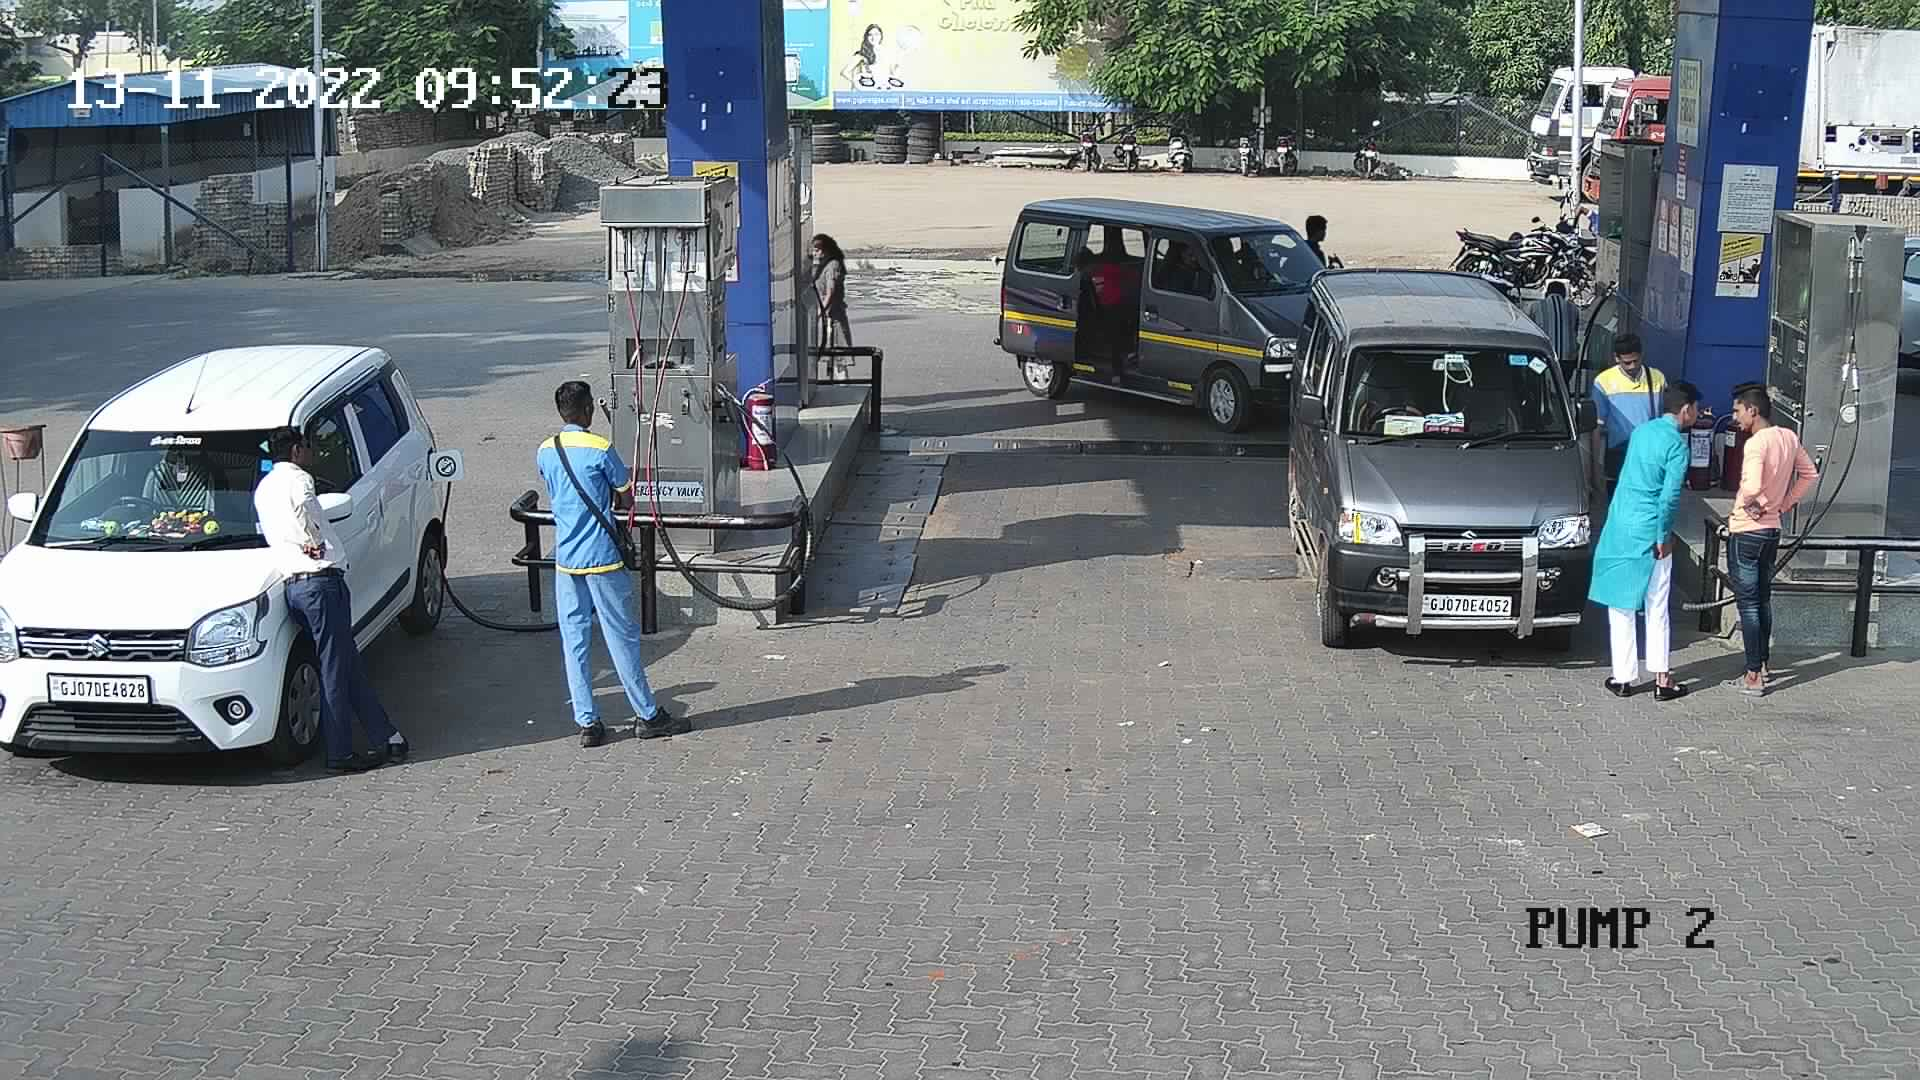Bike: (1435, 203, 1596, 306), (1346, 113, 1389, 182), (1064, 109, 1112, 167), (1158, 113, 1203, 171), (1106, 113, 1149, 171), (1230, 111, 1265, 179), (1266, 121, 1302, 182)
Car: (0, 326, 471, 777), (1276, 260, 1610, 659), (982, 189, 1346, 443), (1880, 225, 1917, 392)
HMV: (1510, 40, 1676, 206), (1572, 65, 1677, 218)
Others: (533, 372, 698, 744), (1573, 320, 1680, 520)
